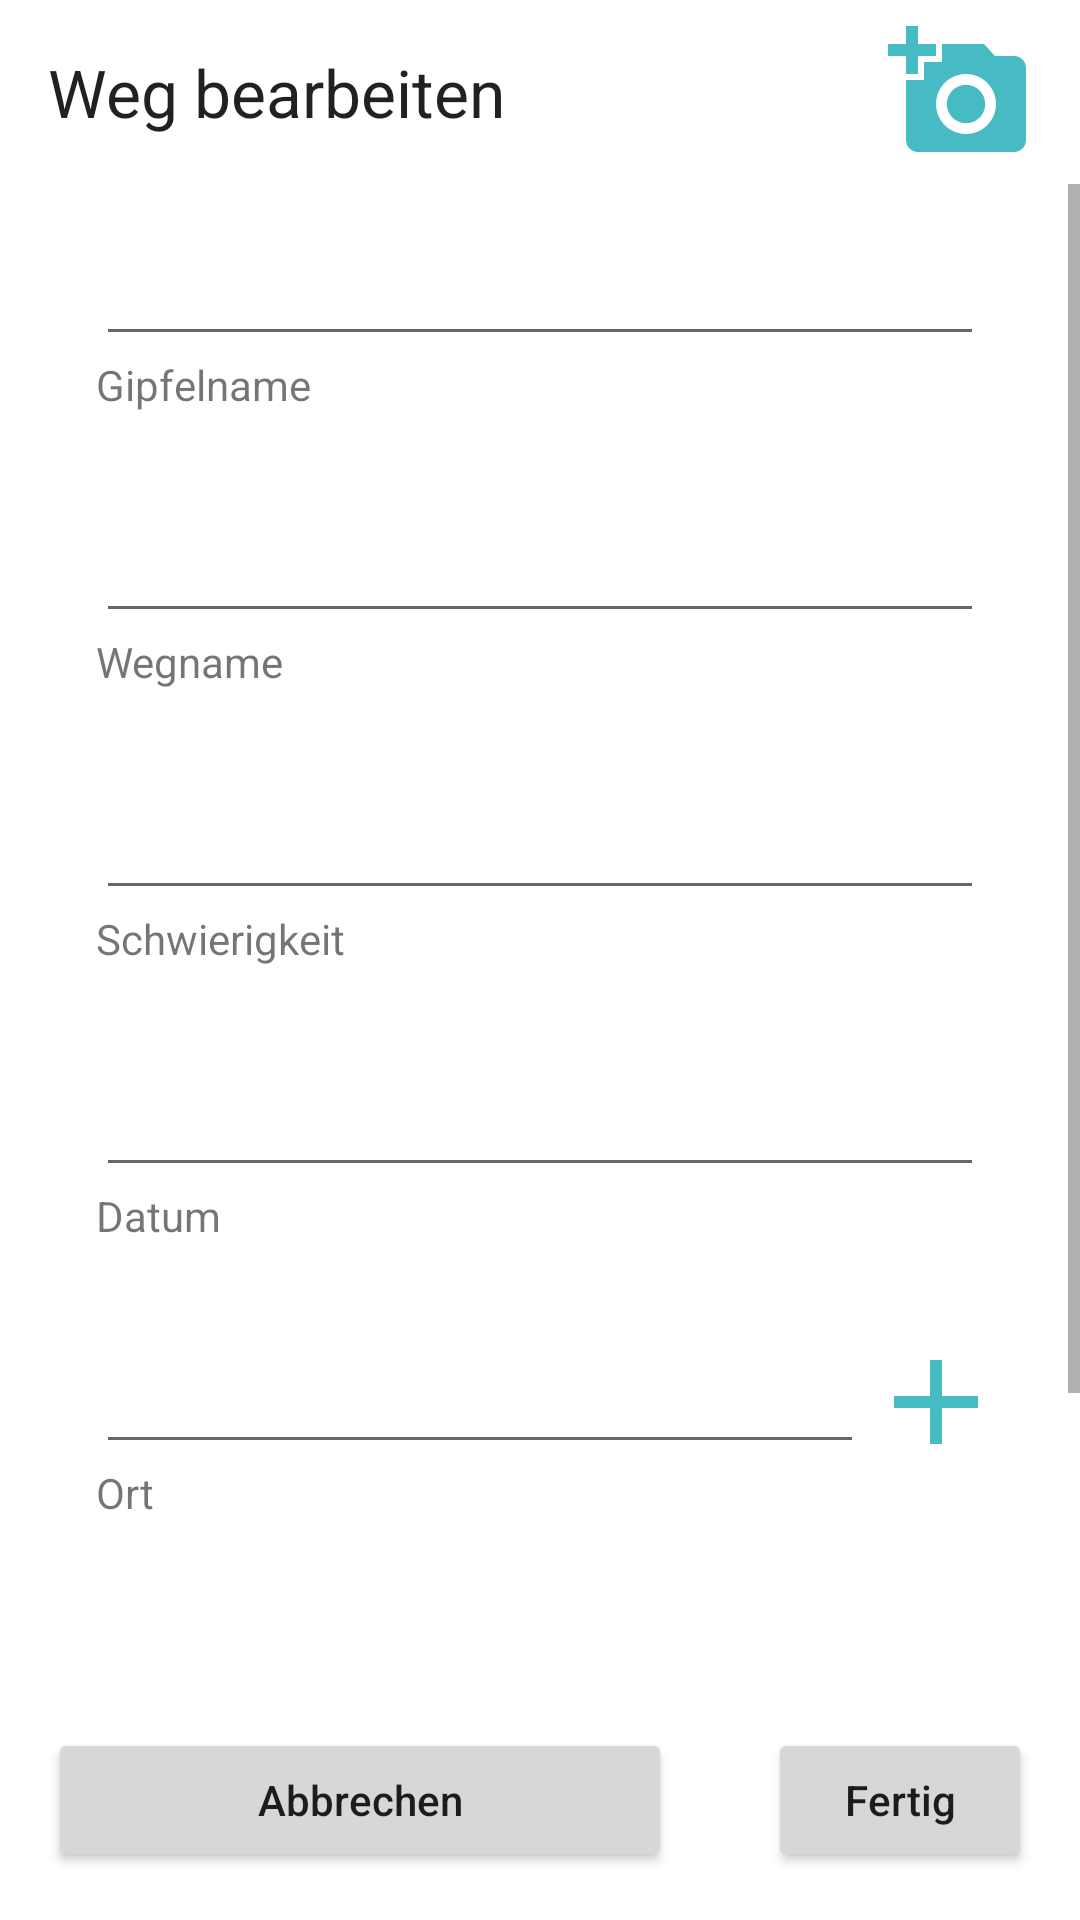

Screen size 1080*1920. Icon name, then its box in pixels as (x1, y1, x2, y2):
add: (894, 1360, 978, 1444)
photo: (888, 26, 1026, 152)
